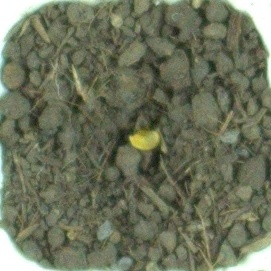chilli seed: (128, 128, 163, 151)
